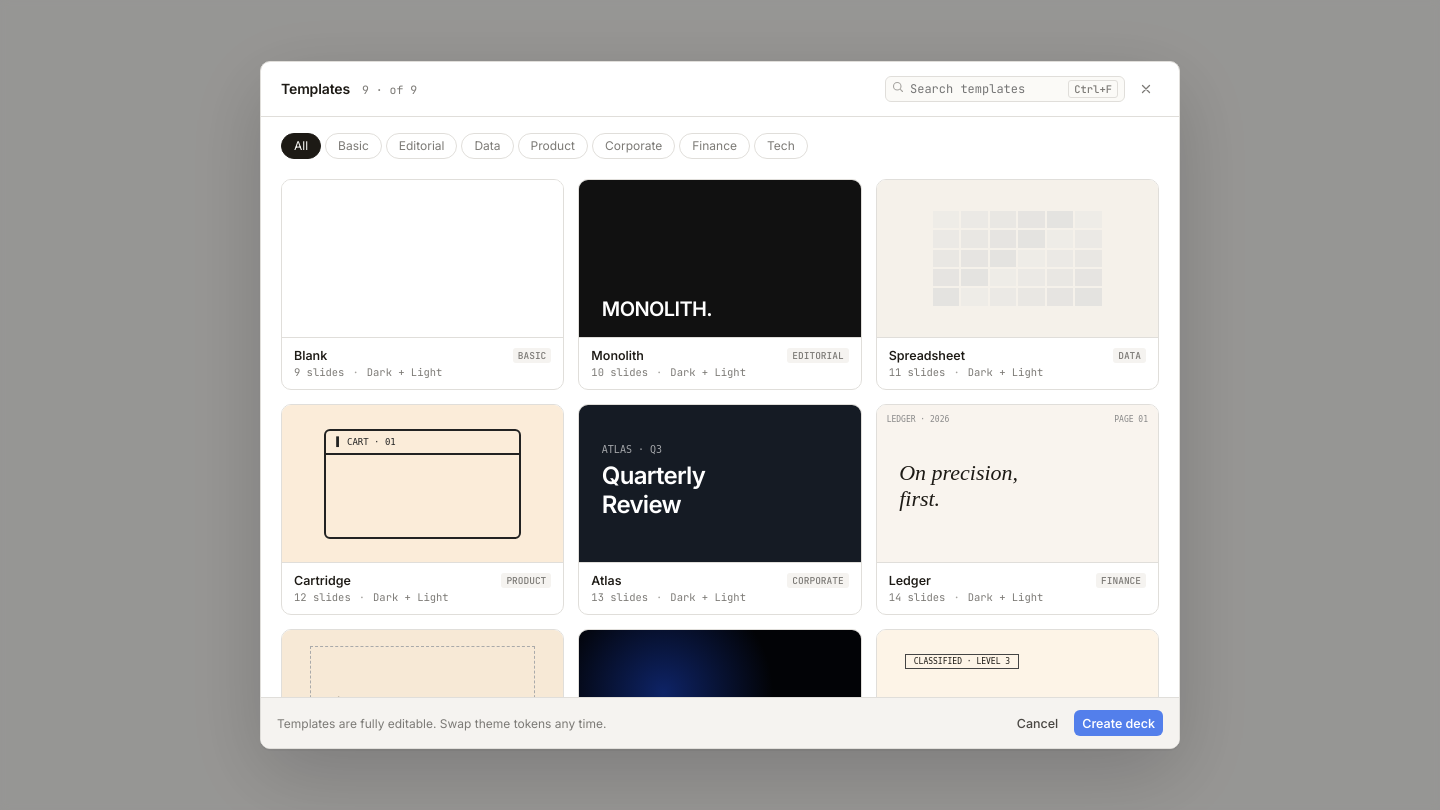
TemplatePicker — search › restores all templates and hides the empty state when the query is cleared
The image size is (1440, 810).
Type "zzzzz" into the field labelled "Search templates".
click(986, 89); type("zzzzz")  # box [908,77,1064,101]
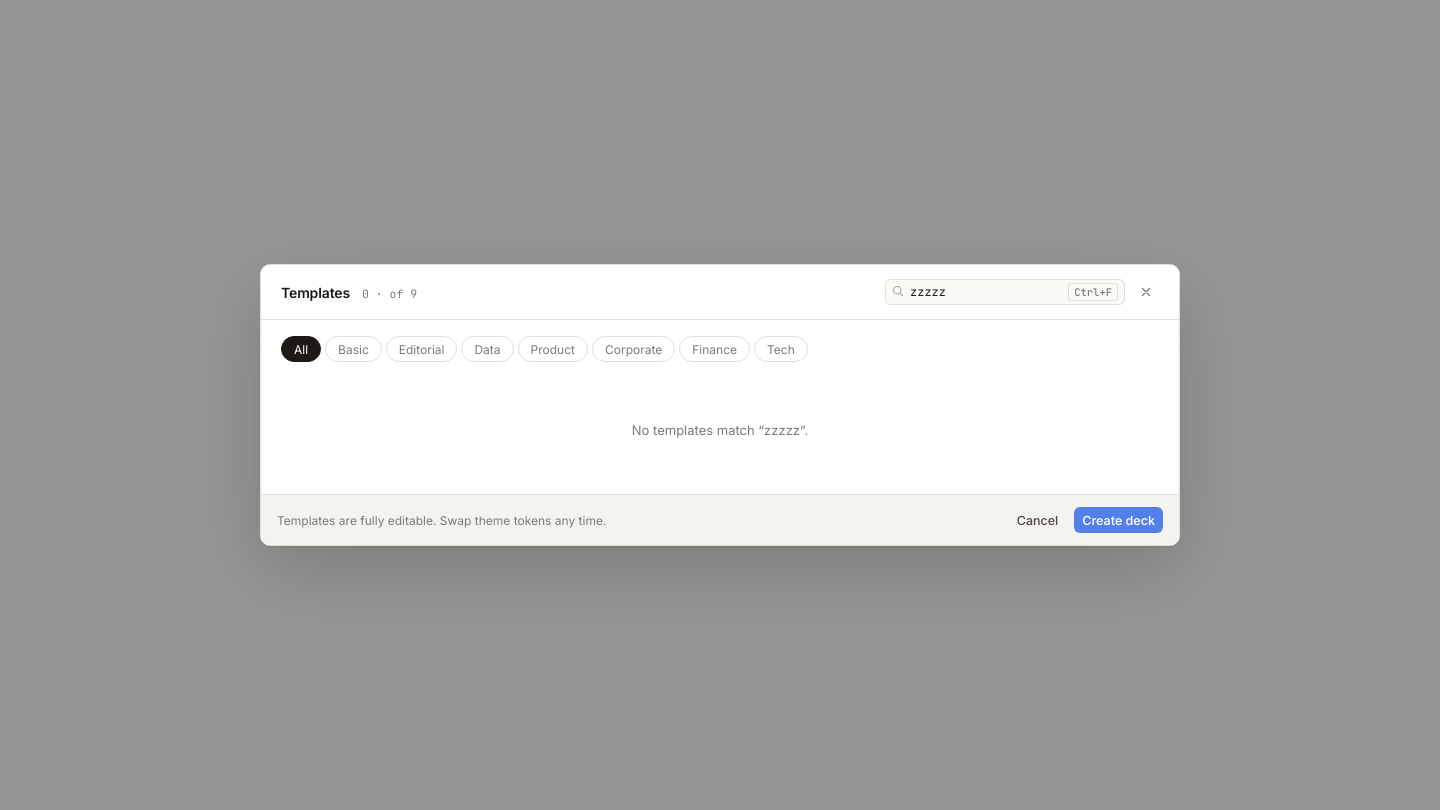
Expected: the text "No templates match “zzzzz”." is shown, [632,422,808,438]
Clear the field named "Search templates" at [986, 292], box [908,280,1064,304]
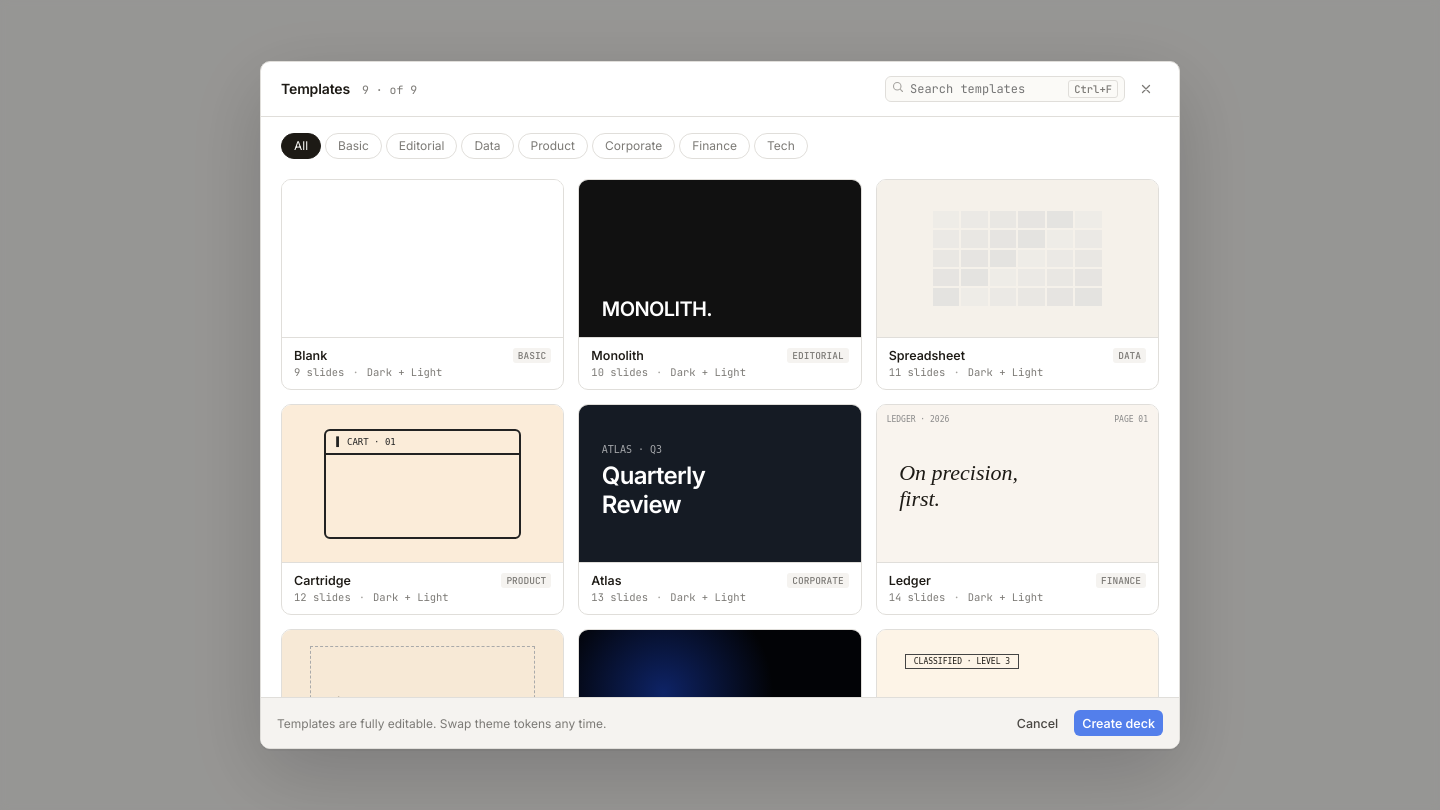
Expected: the text "Blank" is shown, [294,348,327,363]
Expected: the text "Atlas" is shown, [591,573,622,588]
Expected: the text "No templates match" is gone
